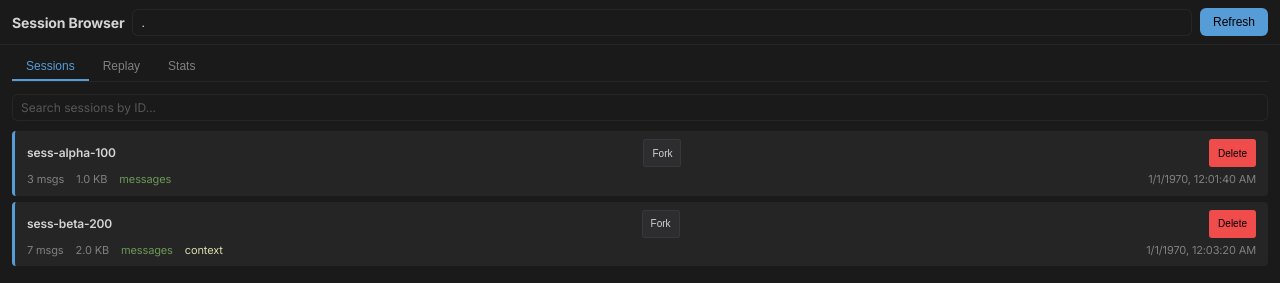
it: Given two sessions are listed › When the search has no match, Then the no-matches empty-state appears
Expected: the text "sess-alpha-100" is shown, x1=27 y1=144 x2=116 y2=162
Type "nomatch" into the field with placeholder "Search sessions by ID...".
click(640, 108); type("nomatch")  # box x1=12 y1=94 x2=1268 y2=121
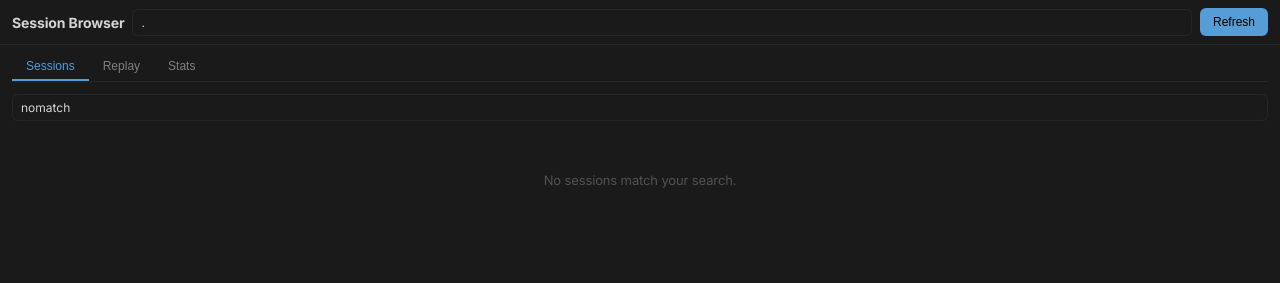
Expected: the text "No sessions match your search." is shown, x1=544 y1=172 x2=736 y2=188
